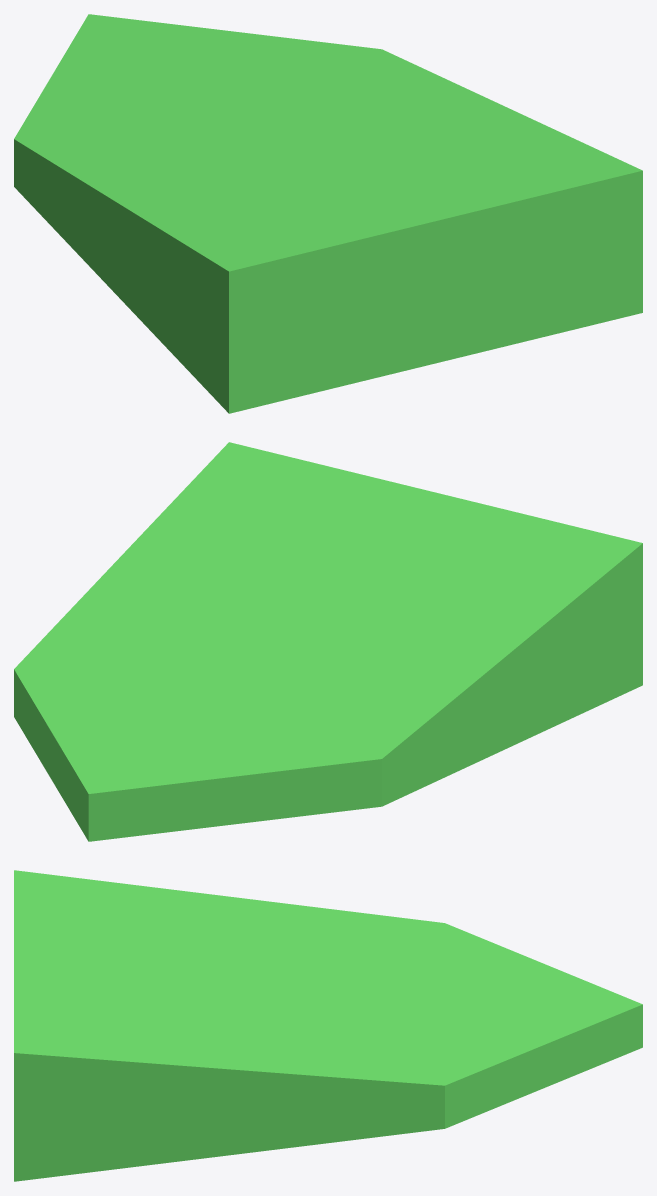
File: piece_green.gltf
The picture shows the model from 3 angles, top to bottom: view 1: azimuth 30°, elevation 25°; view 2: azimuth 150°, elevation 25°; view 3: azimuth 270°, elevation 25°; orthographic projection. The views are drawn at different scales.
Parts seen in each view (by area): view 1: Cube; view 2: Cube; view 3: Cube.
Boxes of the visible parts, x1,y1,x2,y2 form: Cube: (14,14,642,413); Cube: (14,442,642,841); Cube: (14,870,642,1181).
Bounding box in the file's own units: 0.6994 × 0.2297 × 1.02.
